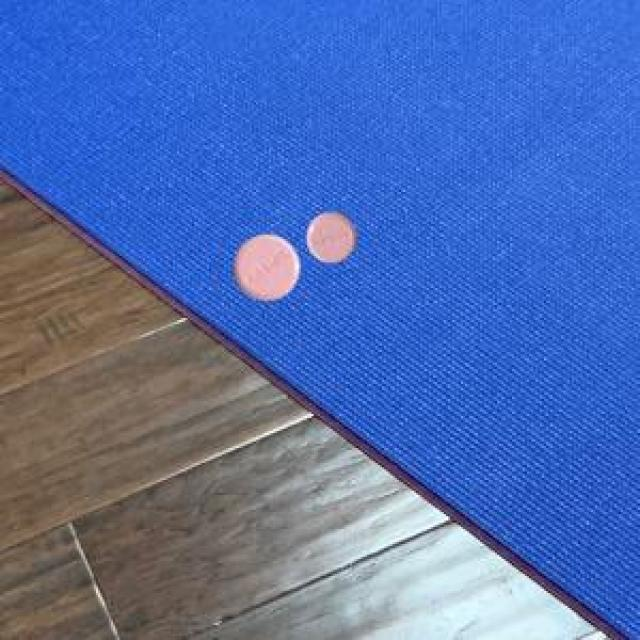Kremil_S: (226, 221, 301, 304), (307, 197, 358, 271)
